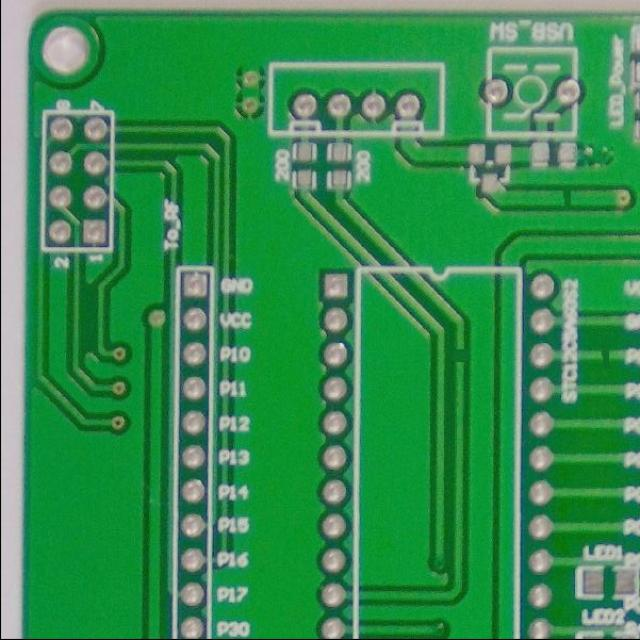open_circuit: (557, 188, 576, 210), (450, 345, 468, 368), (596, 346, 610, 371)
